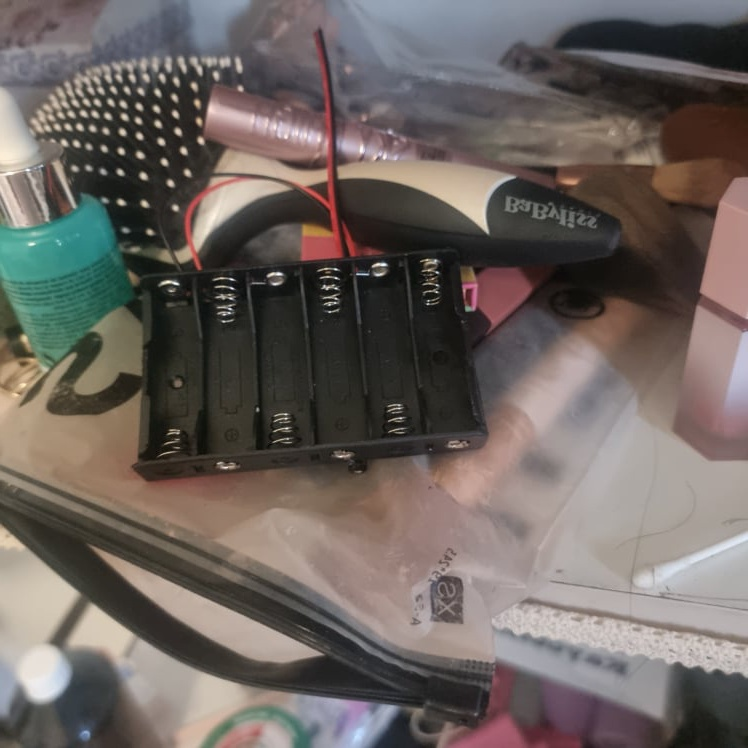BATTERY BOX: (129, 249, 488, 484)
